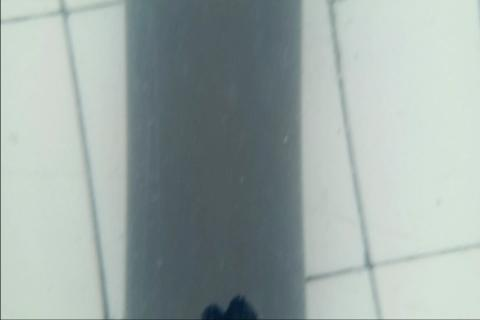kebocoran: (198, 290, 261, 320)
